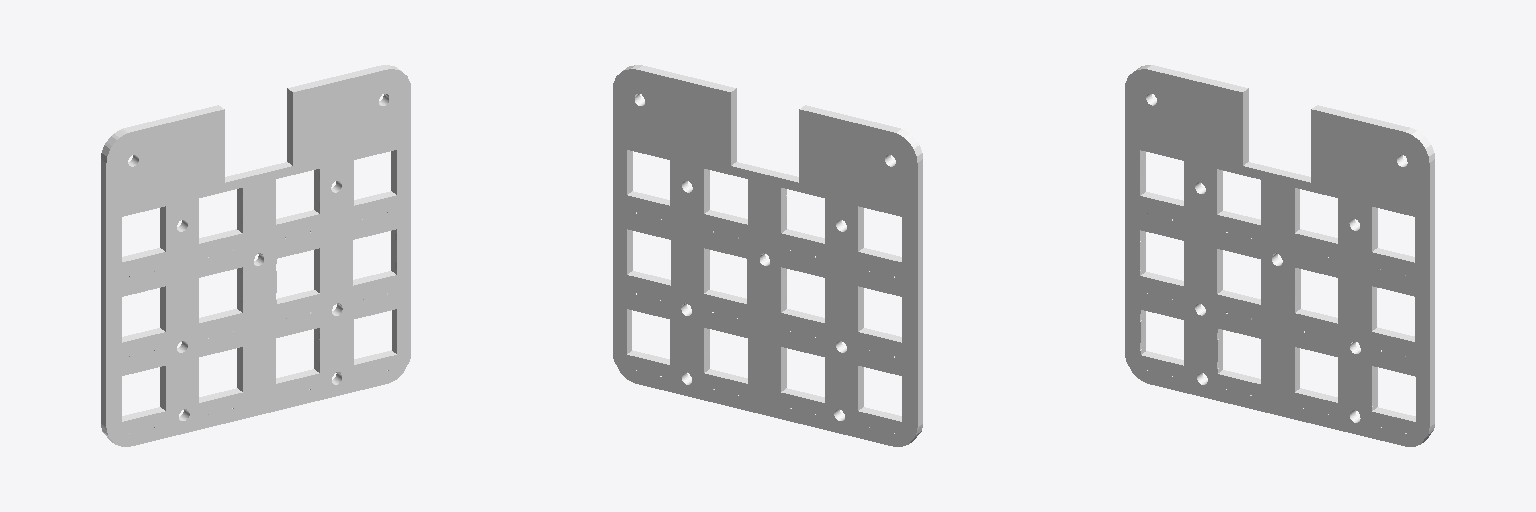
Rendered from duckpad_v2_plate.obj.
3 renders of one model, left to right at view 1: azimuth 30°, elevation 25°; view 2: azimuth 150°, elevation 25°; view 3: azimuth 330°, elevation 25°, orthographic.
Visible parts, largest first — view 1: obj_0; view 2: obj_0; view 3: obj_0.
Boxes of the visible parts, x1=… form: obj_0: x1=101, y1=65, x2=410, y2=446; obj_0: x1=613, y1=65, x2=922, y2=446; obj_0: x1=1125, y1=65, x2=1434, y2=446.
Size of the model in its own units: 99.01 by 97.65 by 3.25.